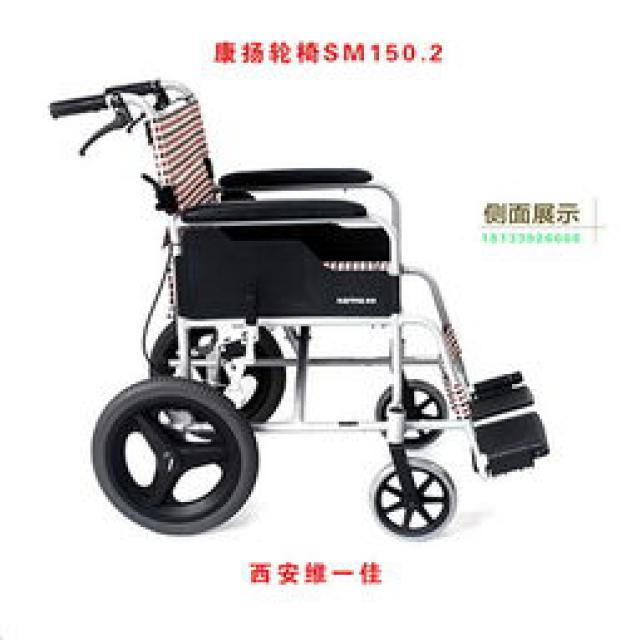wheelchair: (38, 75, 570, 550)
